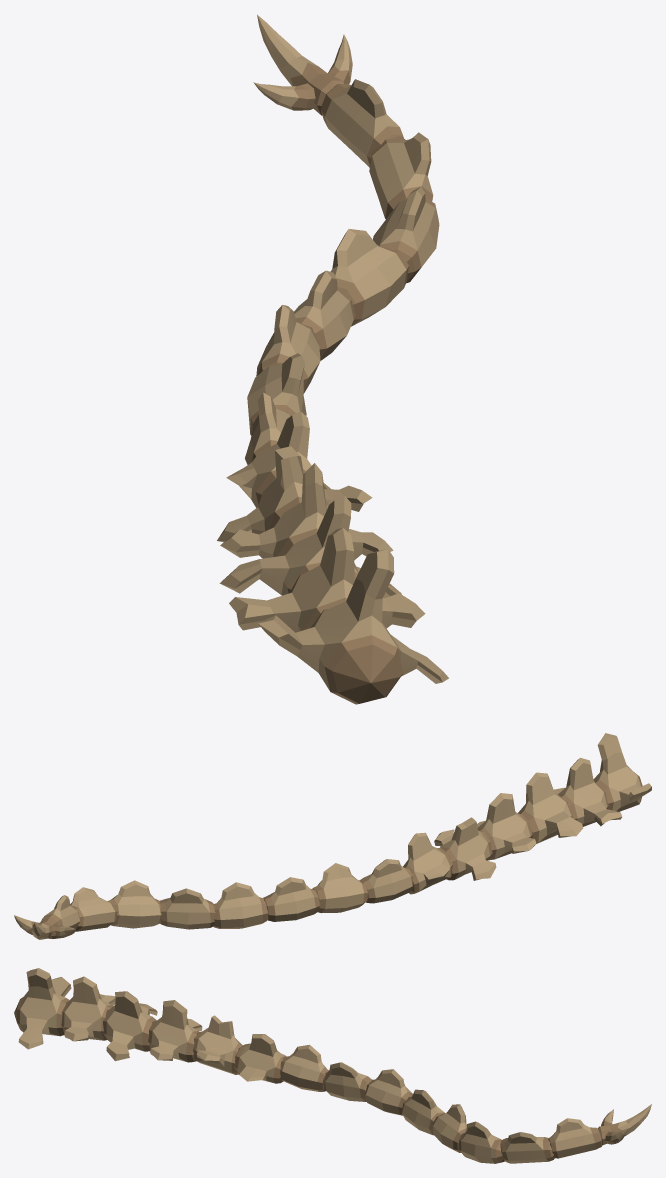
The model's file is weiba.FBX.
3 views of the same model, one above another, from view 1: azimuth 30°, elevation 25°; view 2: azimuth 150°, elevation 25°; view 3: azimuth 270°, elevation 25° (orthographic). The views are drawn at different scales.
Parts seen in each view (by area): view 1: SM_Env_Bone_Tail_01_Dungeon_Material_01_0; view 2: SM_Env_Bone_Tail_01_Dungeon_Material_01_0; view 3: SM_Env_Bone_Tail_01_Dungeon_Material_01_0.
Part boxes in pixels (left/top/right/bottom): SM_Env_Bone_Tail_01_Dungeon_Material_01_0: left=217, top=14, right=448, bottom=704; SM_Env_Bone_Tail_01_Dungeon_Material_01_0: left=14, top=733, right=651, bottom=939; SM_Env_Bone_Tail_01_Dungeon_Material_01_0: left=14, top=968, right=651, bottom=1163.
Size of the model in its own units: 53.5 by 13.15 by 90.49.
